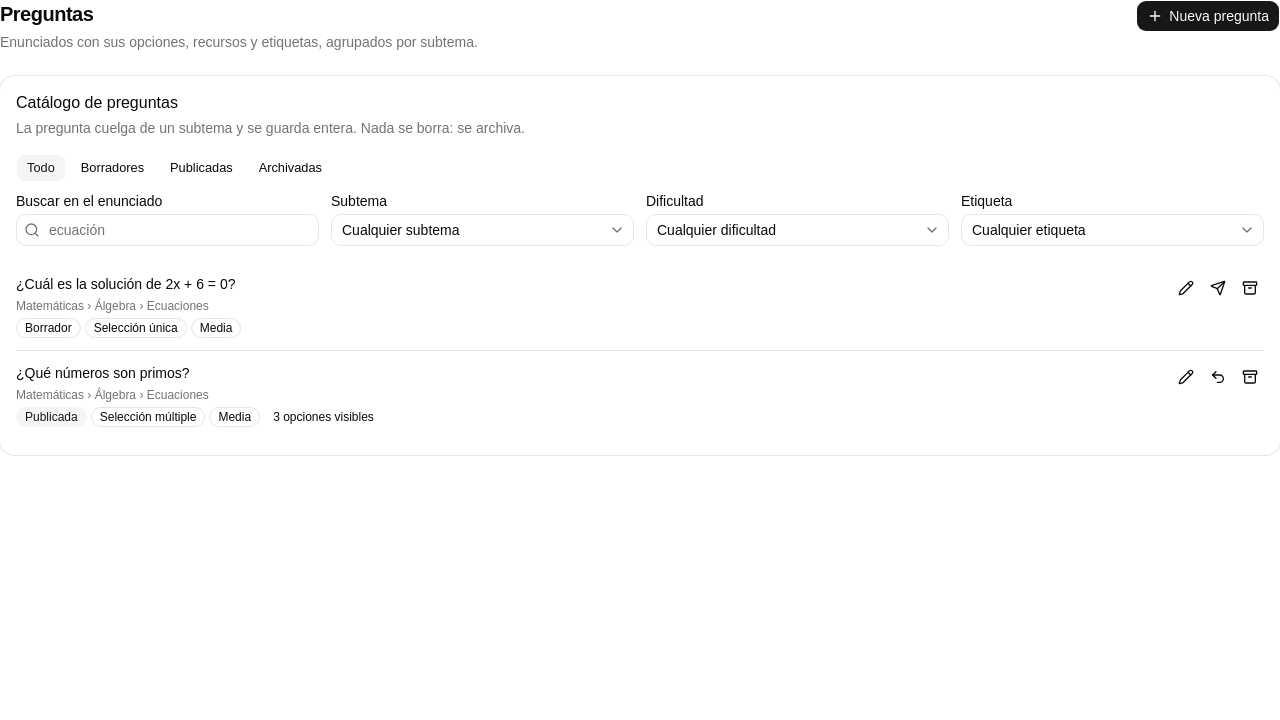
gestión de preguntas › conserva lo escrito cuando el servidor rechaza el guardado
Click the button named "Editar «¿Cuál". click: point(1186, 288)
box: [1172,274,1200,302]
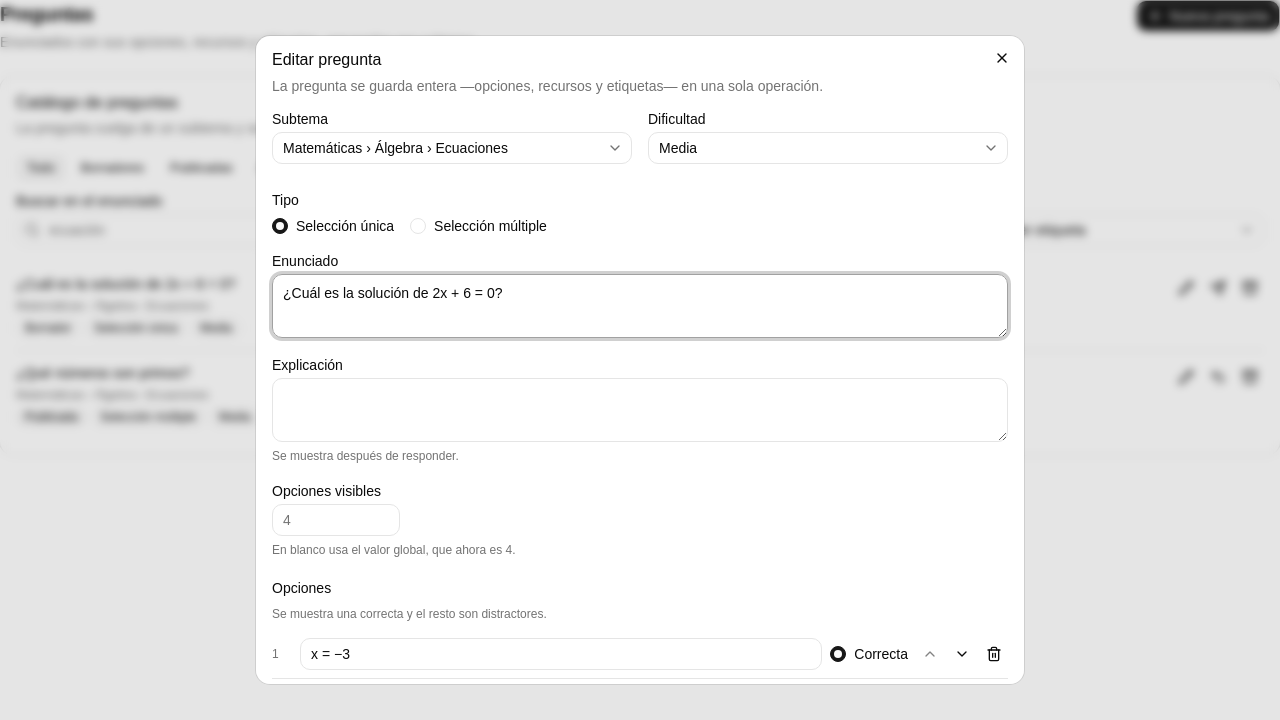
Now the dialog is shown, box [256,36,1024,684]
Now the text box labelled "Enunciado" is shown, box [272,274,1008,338]
Type "Se despeja la x." into the text box labelled "Explicación". click: point(640, 410)
box: [272,378,1008,442]
(page scrolled)
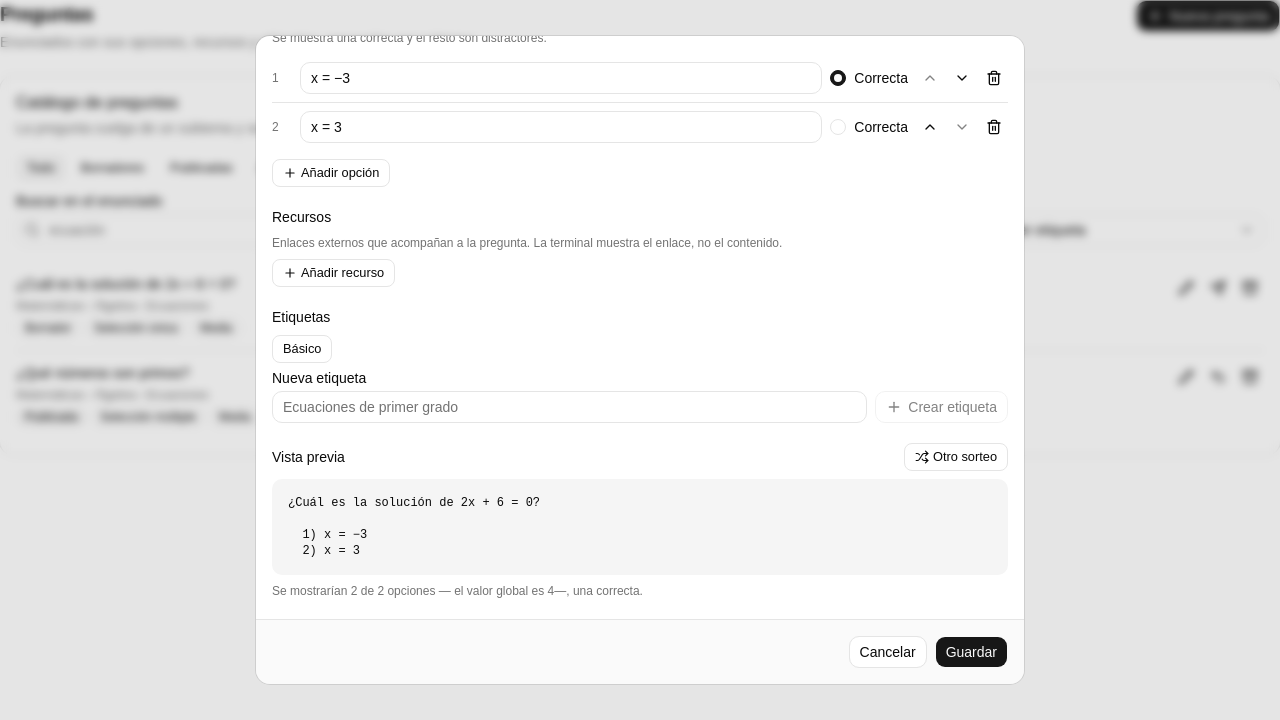
Click the button "Guardar". click: point(971, 652)
box: [935,636,1008,668]
(page scrolled)
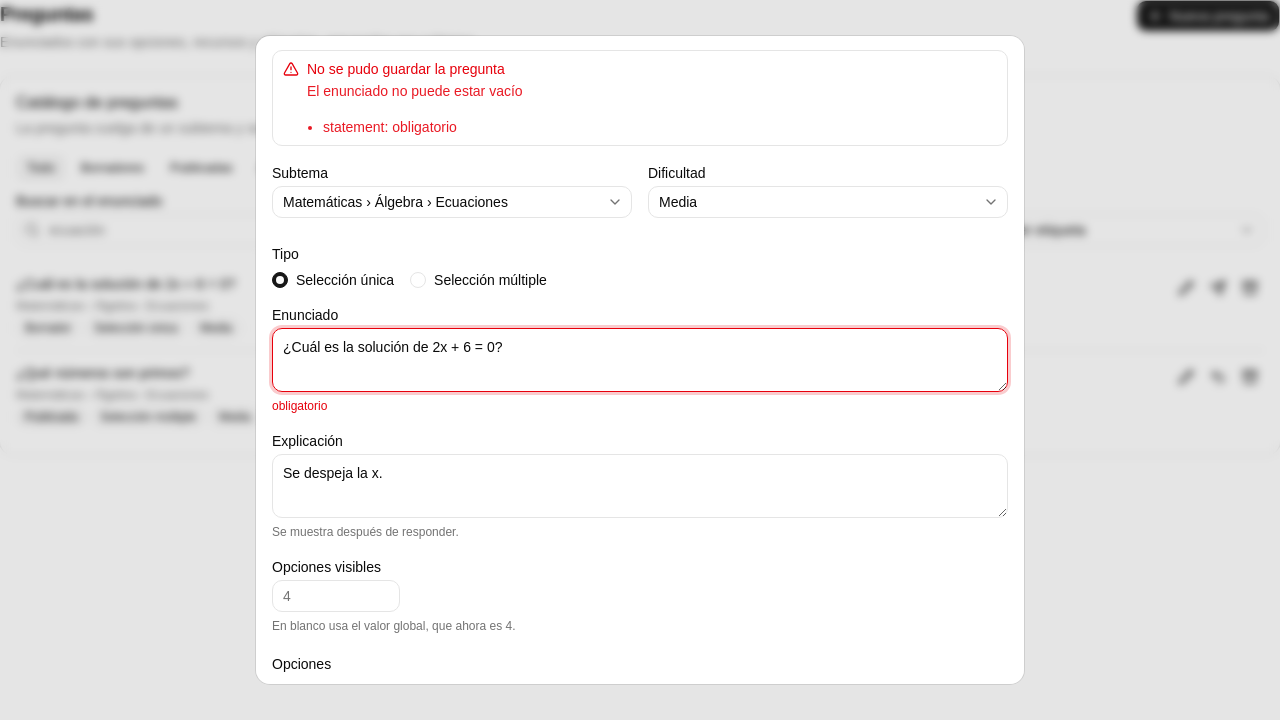
Now the text "El enunciado no puede estar vacío" is shown, box [307,83,523,99]
Now the text box labelled "Enunciado" holds "¿Cuál es la solución de 2x + 6 = 0?", box [272,328,1008,392]
